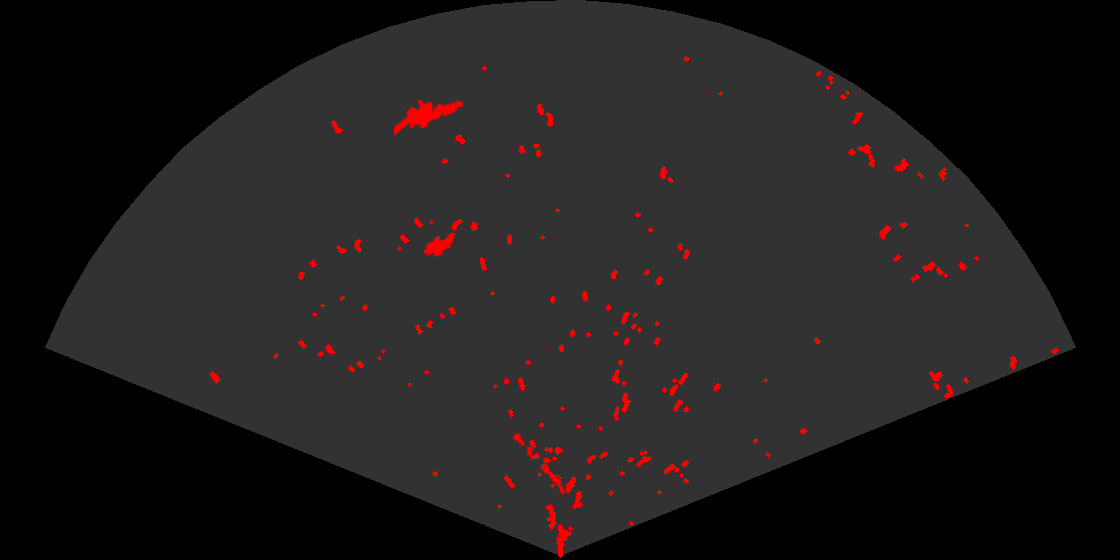AUV: (422, 231, 457, 258)
chain: (506, 423, 567, 496)
frogman: (394, 98, 465, 138)
